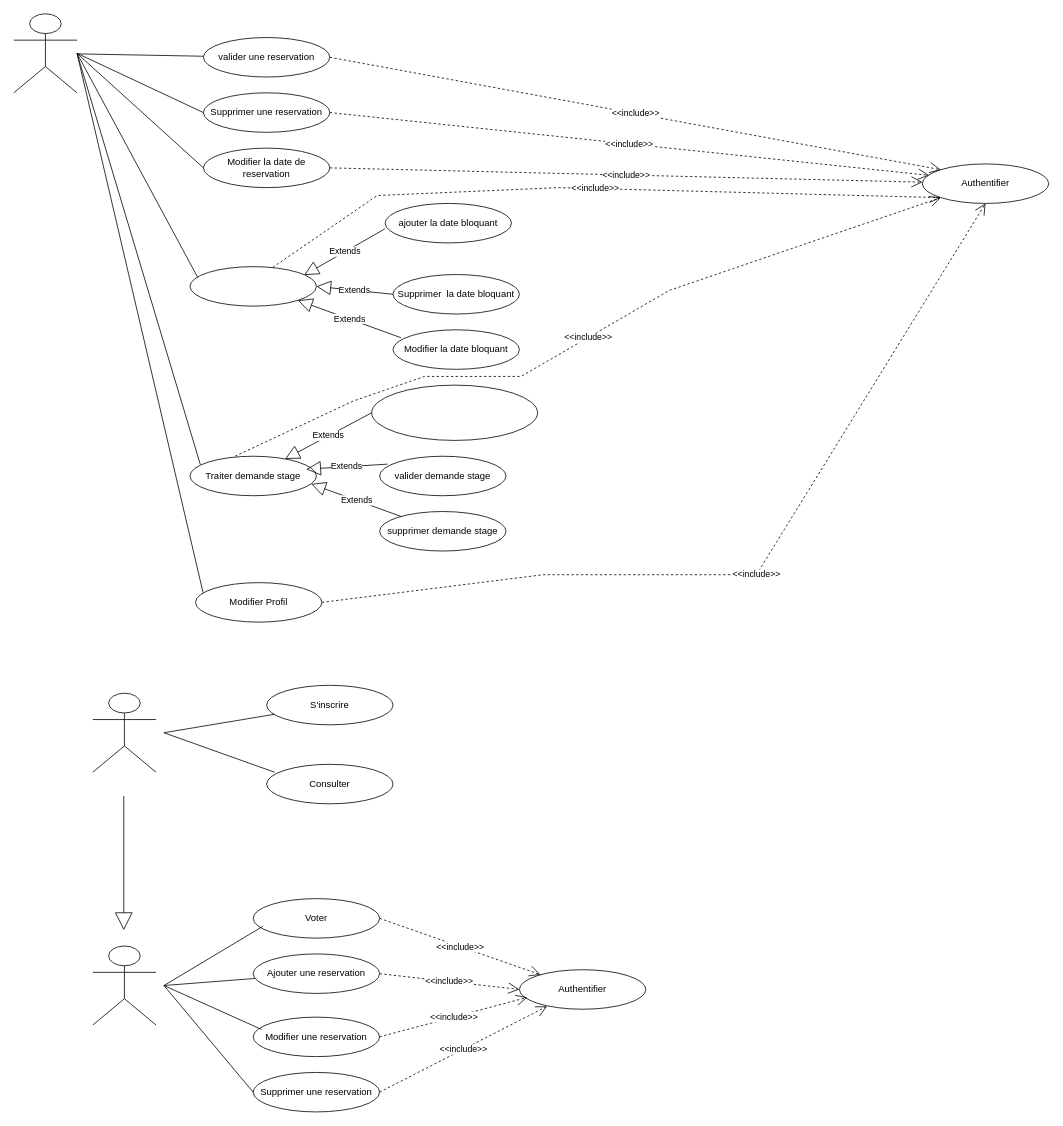
Image size: 1063x1126. Some labels were removed from this diagram. The shapes that lost their labels are listed below. From the top down, each one's box as (x1, y1, x2, y2) in pixels, then its label:
(13, 13, 77, 93): Avocat
(189, 266, 316, 306): Traiter Date Disponabiliter
(371, 384, 538, 440): Attendre la libération des places pour la demande de stage
(92, 692, 156, 772): Visiteur
(92, 945, 156, 1025): Client
